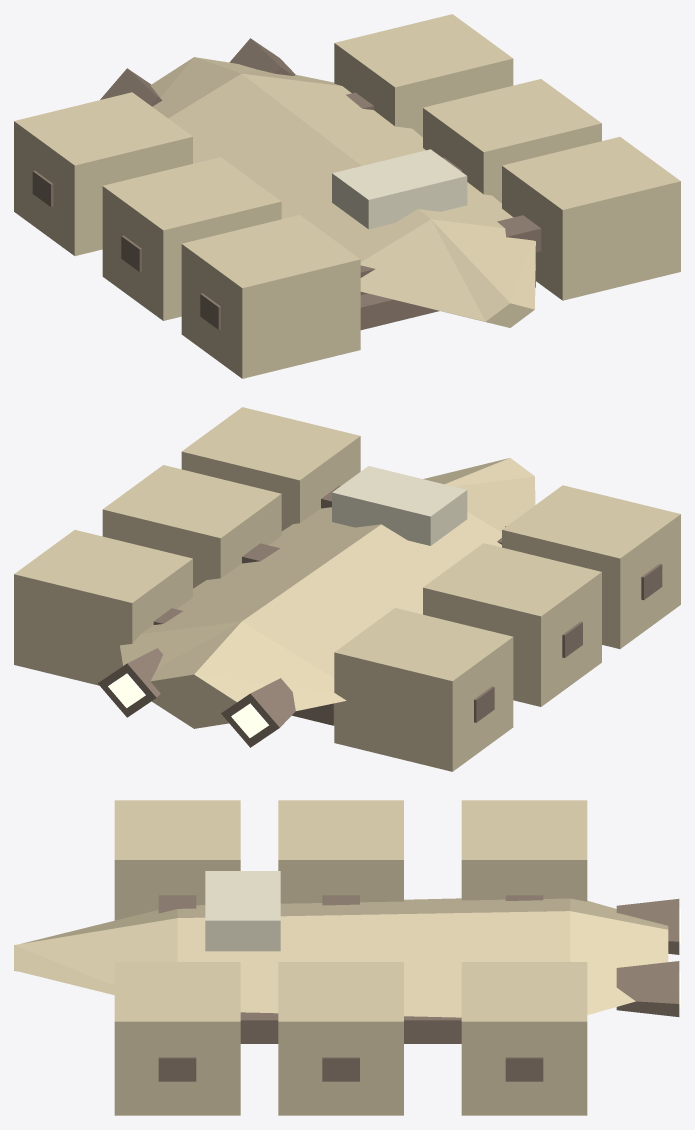
The picture shows the model from 3 angles, top to bottom: view 1: azimuth 30°, elevation 25°; view 2: azimuth 150°, elevation 25°; view 3: azimuth 270°, elevation 25°; orthographic projection. The views are drawn at different scales.
Size of the model in its own units: 8.93 by 2.03 by 11.24.
